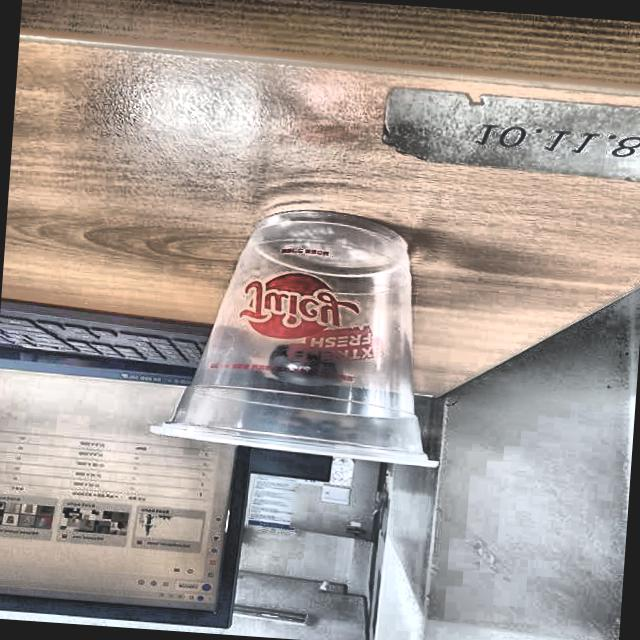plastic cup: (143, 199, 460, 468)
